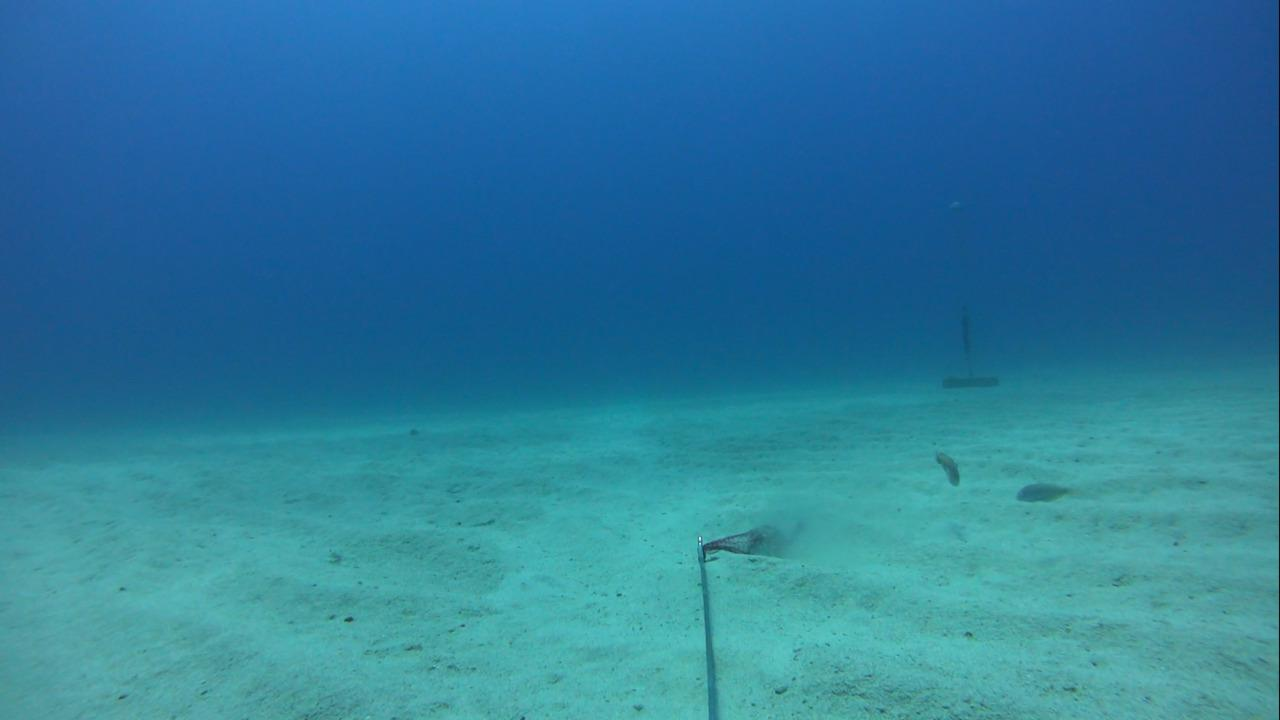raor: (1007, 473, 1073, 506), (921, 442, 965, 490)
